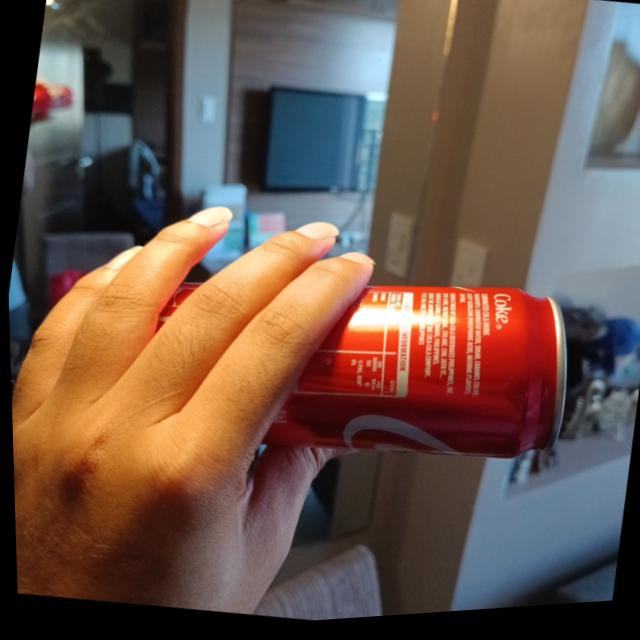coke: (256, 255, 585, 484)
